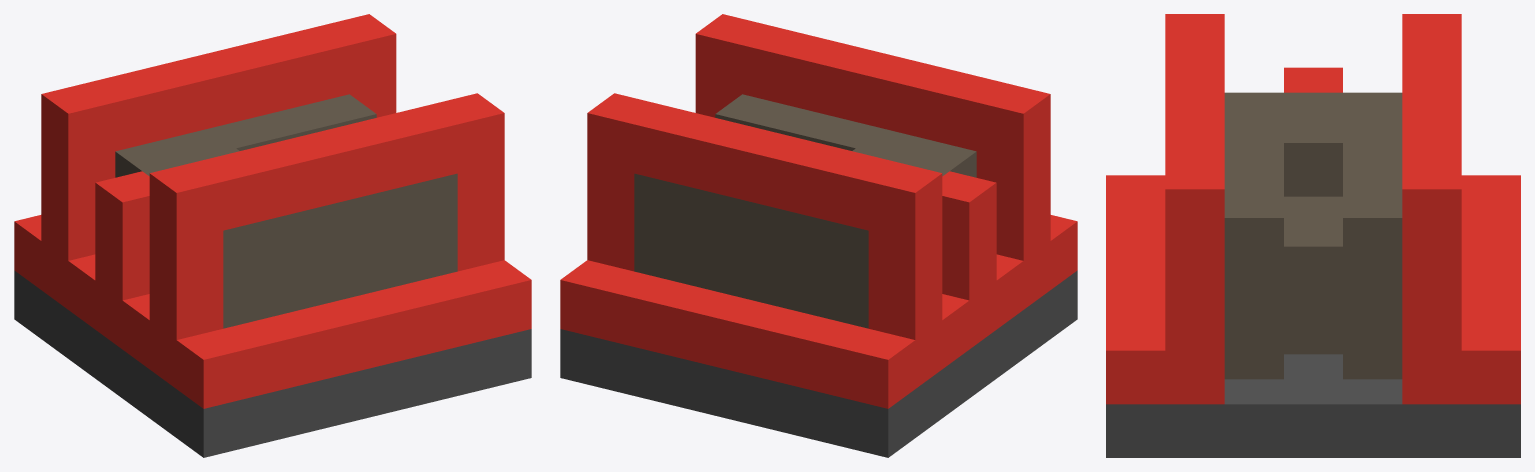
The model's file is WeaponTargetting#3.obj.
3 renders of one model, left to right at view 1: azimuth 30°, elevation 25°; view 2: azimuth 150°, elevation 25°; view 3: azimuth 270°, elevation 25°, orthographic. The views are drawn at different scales.
Size of the model in its own units: 0.7 by 0.6 by 0.7.
1 material, 1 textured.
